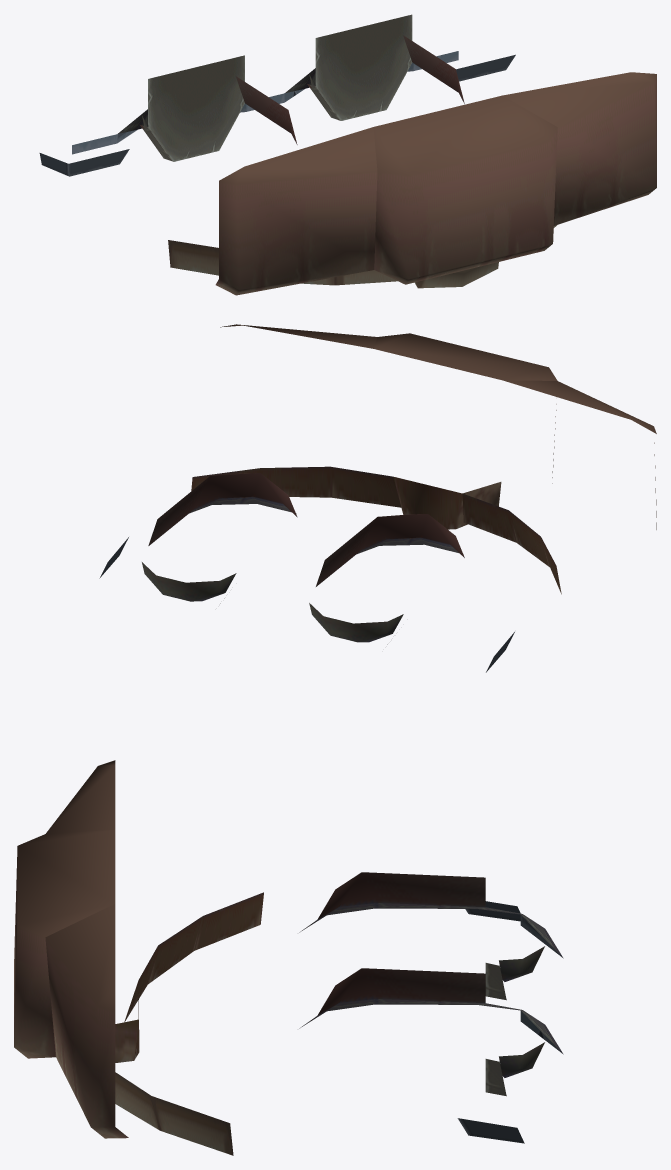
File: torches_3unit.glb
The picture shows the model from 3 angles, top to bottom: view 1: azimuth 30°, elevation 25°; view 2: azimuth 150°, elevation 25°; view 3: azimuth 270°, elevation 25°; orthographic projection. The views are drawn at different scales.
Parts seen in each view (by area): view 1: wall.torches_3unit-MeshNodes["wall_arch_Three_04_top"], wall.torches_3unit-MeshNodes["wall_arch_Three_04"]; view 2: wall.torches_3unit-MeshNodes["wall_arch_Three_04_top"]; view 3: wall.torches_3unit-MeshNodes["wall_arch_Three_04_top"], wall.torches_3unit-MeshNodes["wall_arch_Three_04"].
Boxes of the visible parts, x1,y1,x2,y2 form: wall.torches_3unit-MeshNodes["wall_arch_Three_04_top"]: [118, 14, 656, 295]; wall.torches_3unit-MeshNodes["wall_arch_Three_04"]: [39, 51, 515, 176]; wall.torches_3unit-MeshNodes["wall_arch_Three_04_top"]: [142, 324, 656, 644]; wall.torches_3unit-MeshNodes["wall_arch_Three_04_top"]: [14, 760, 562, 1155]; wall.torches_3unit-MeshNodes["wall_arch_Three_04"]: [457, 901, 562, 1143].
Bounding box in the file's own units: 3.53 × 1.17 × 3.68.
Materials: 3 (3 with a texture image).
